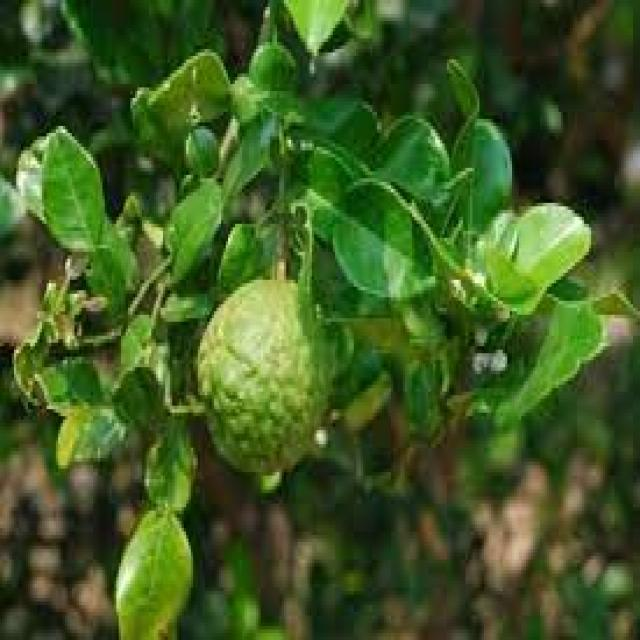Chuc: (193, 272, 333, 476)
